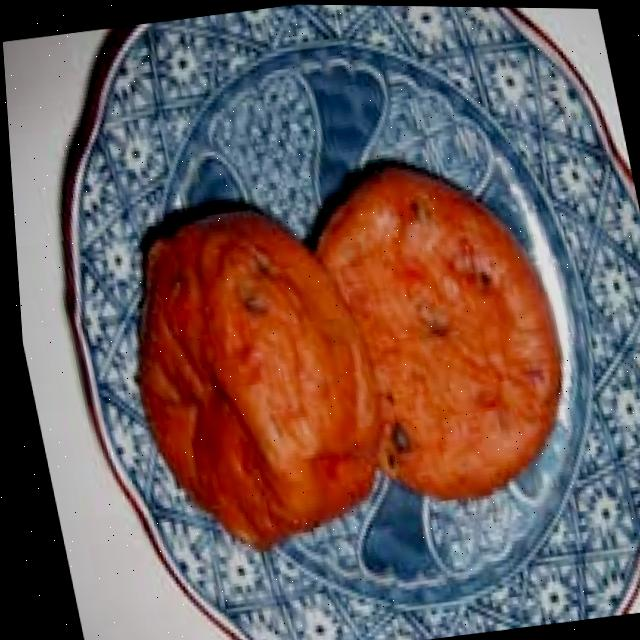熟制海鲜: (120, 208, 638, 624)
